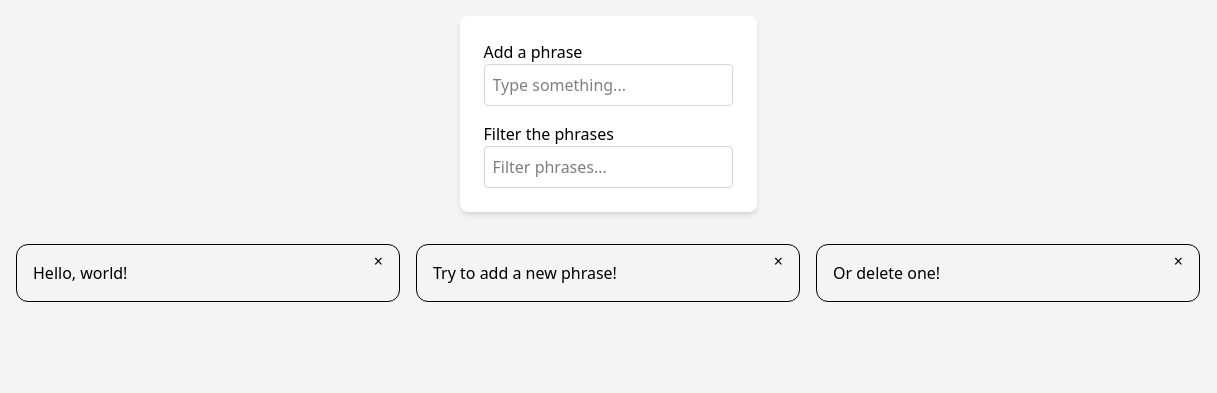
Test case: App Component › should add a new phrase
Type "testing new phrase" into the field with placeholder "Type something..." at (608, 85), box [484,64,732,106]
Then press Enter
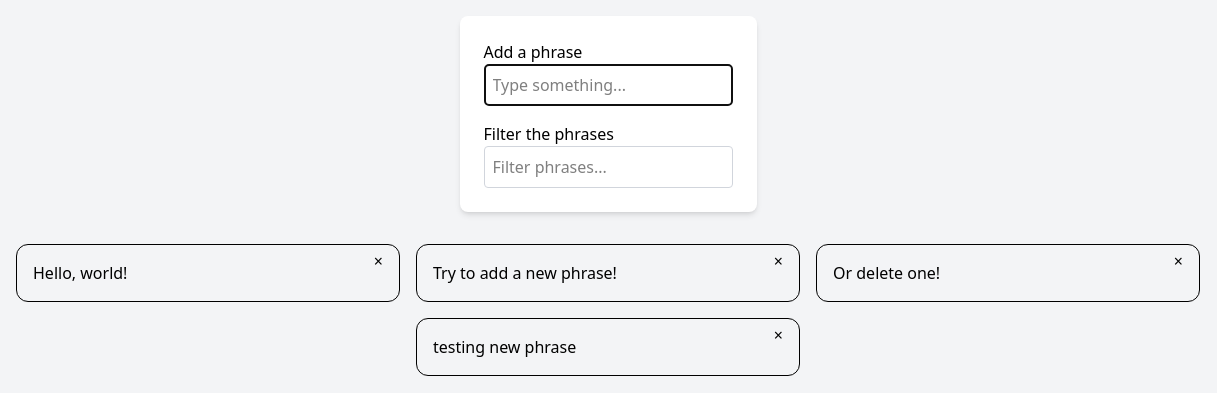
Now the text "testing new phrase" is shown, box [433,336,576,358]
Now the number of list items is 4, box [16,244,400,302]; [416,244,800,302]; [816,244,1200,302]; [416,318,800,376]
